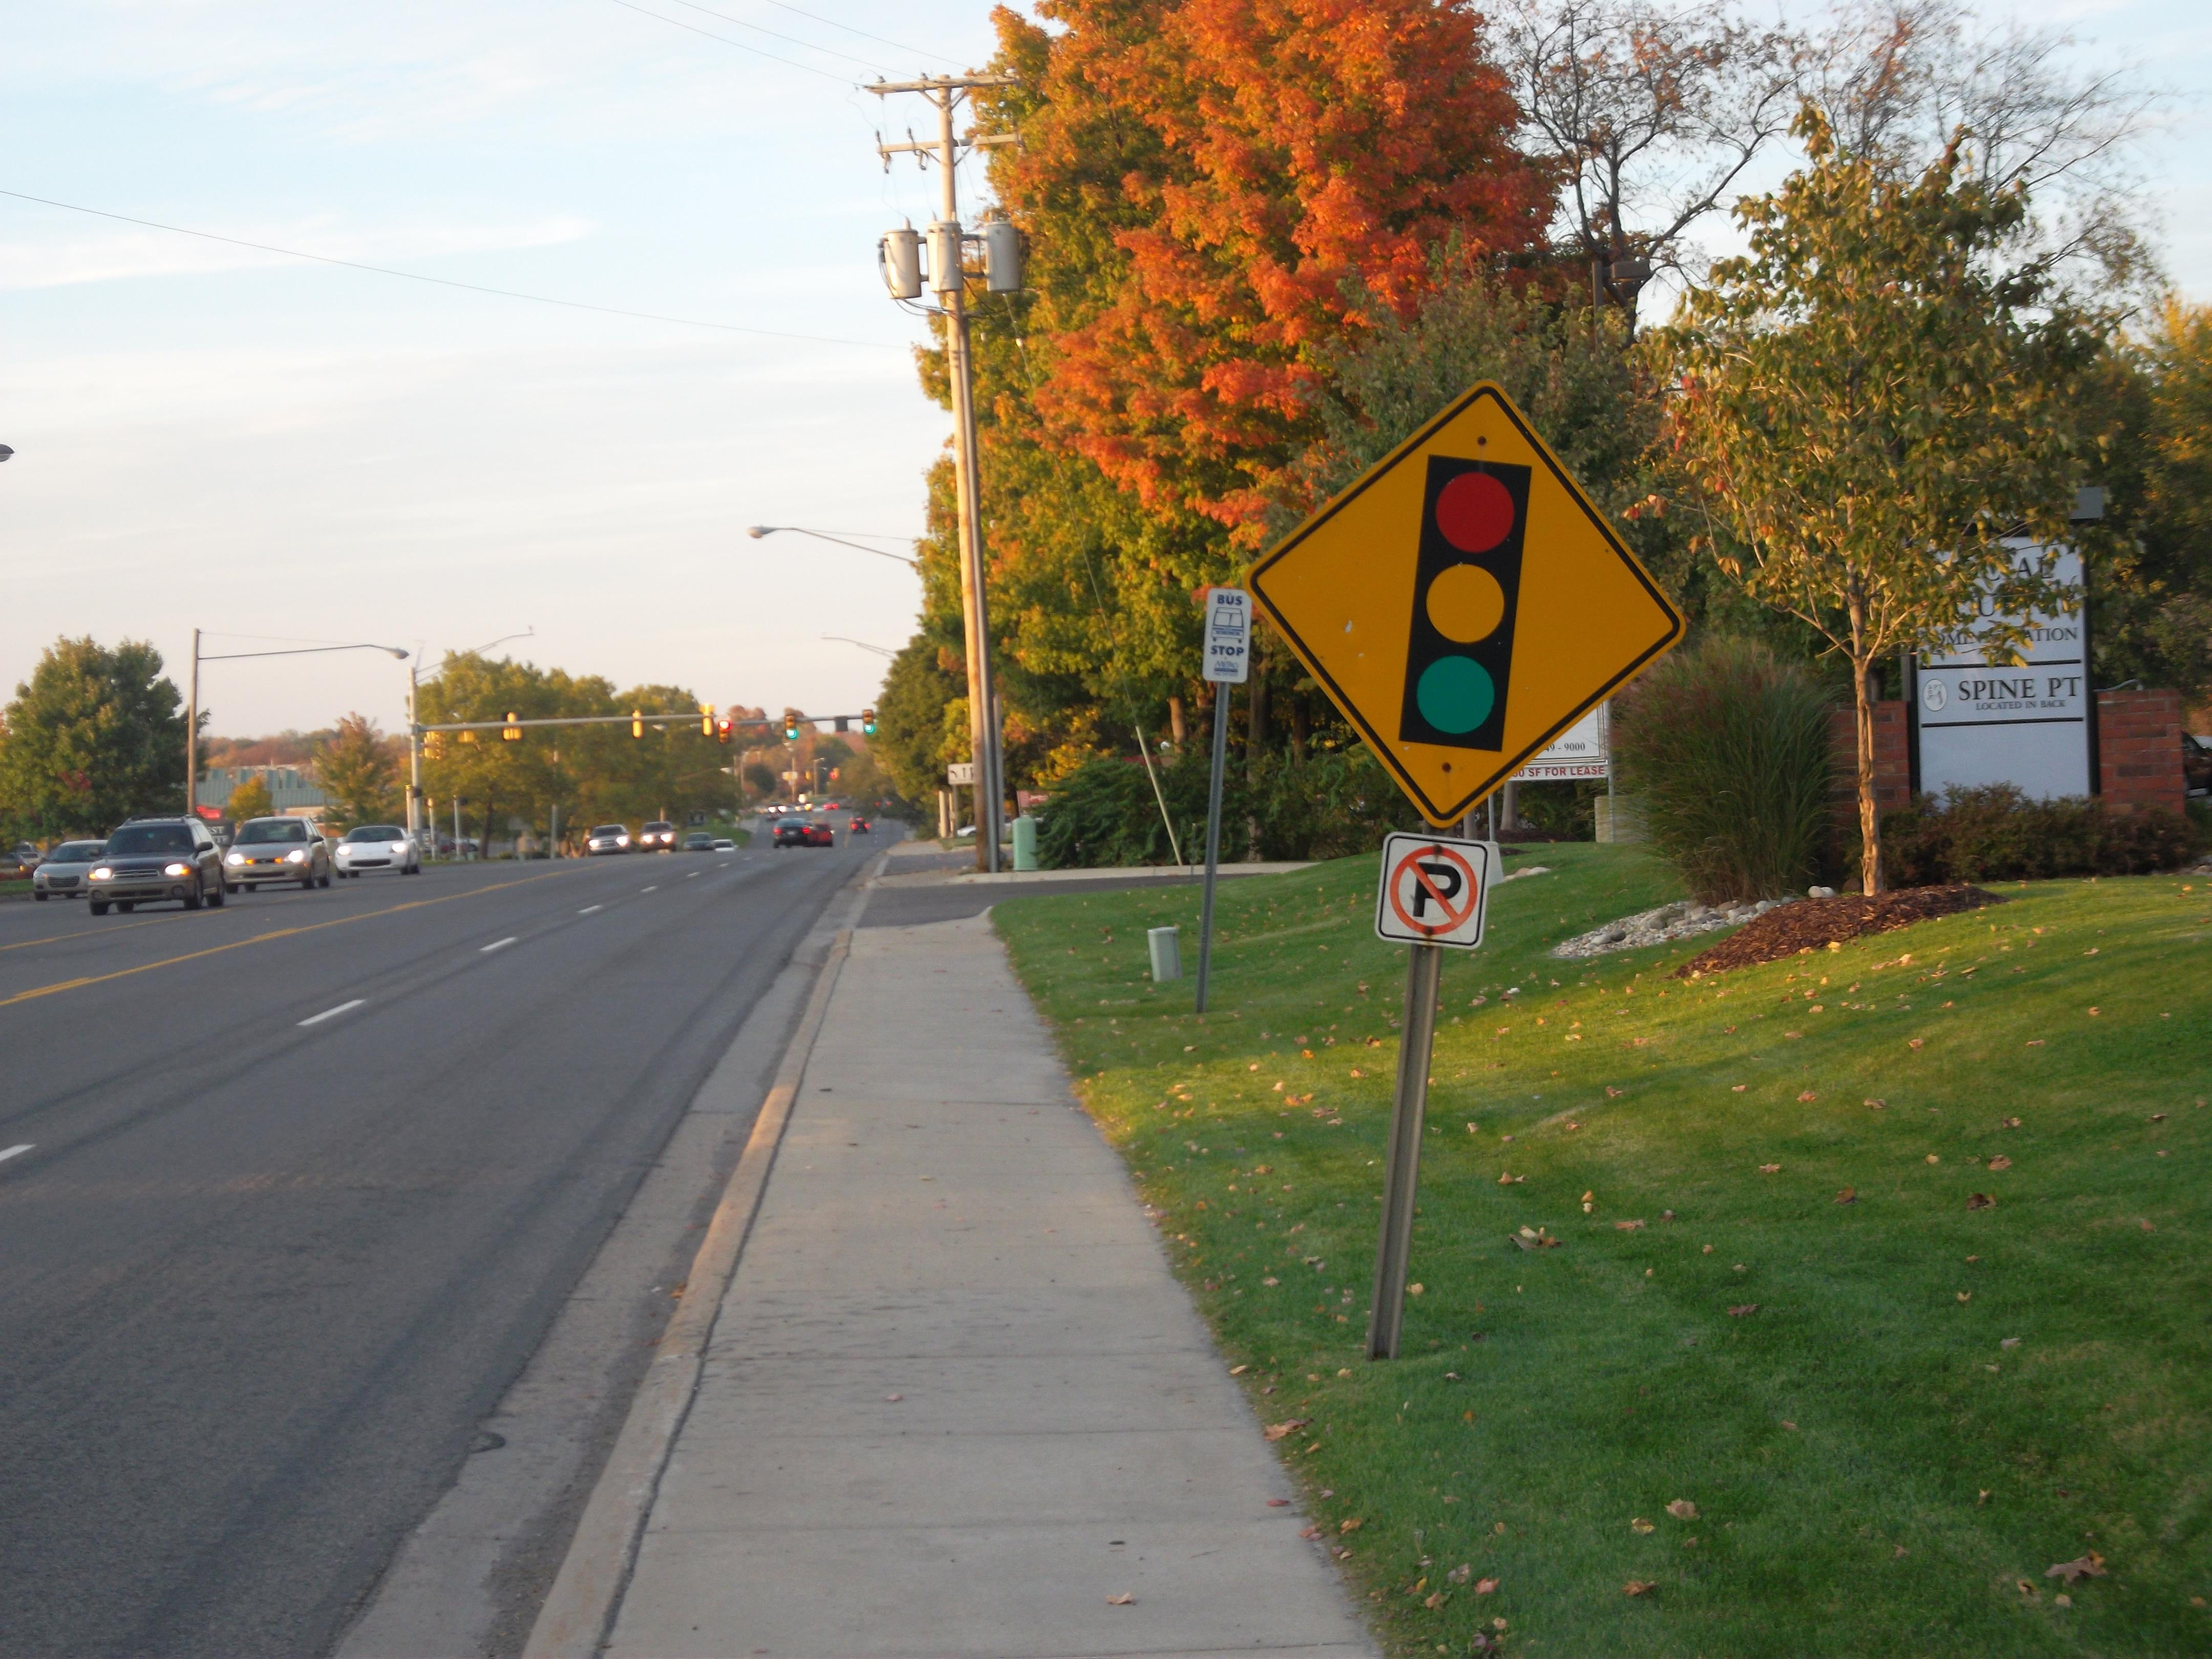regulatory: (1383, 833, 1482, 955)
warning: (1237, 376, 1686, 821)
